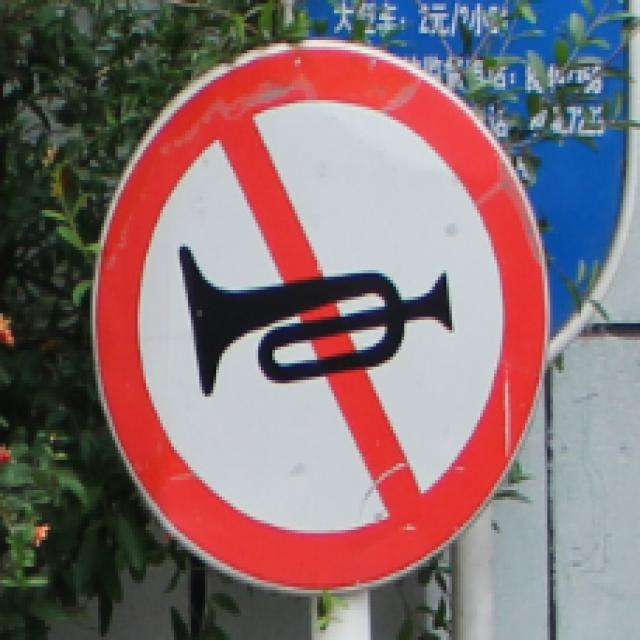No Horn: (91, 44, 532, 596)
